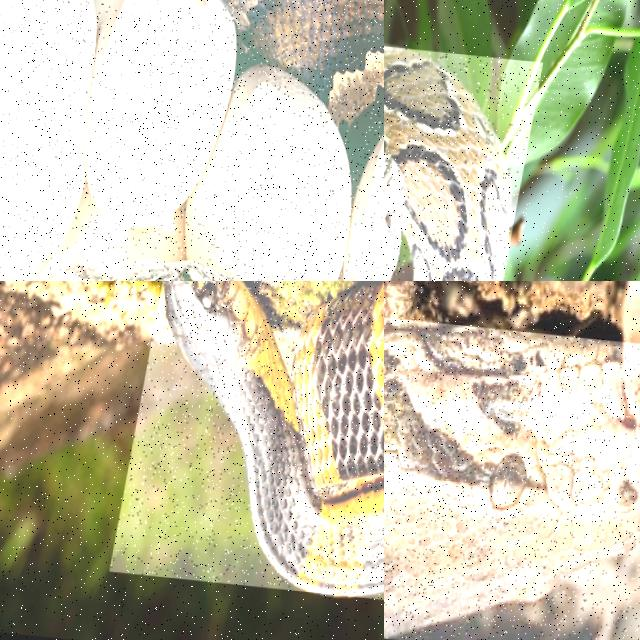Bungarus fasciatus: (163, 281, 383, 596)
Daboia siamensis: (384, 46, 510, 280)
Python bivittatus: (384, 326, 639, 635), (217, 0, 383, 126)
snake: (384, 326, 639, 635), (163, 281, 383, 596), (384, 46, 510, 280), (217, 0, 383, 126)
